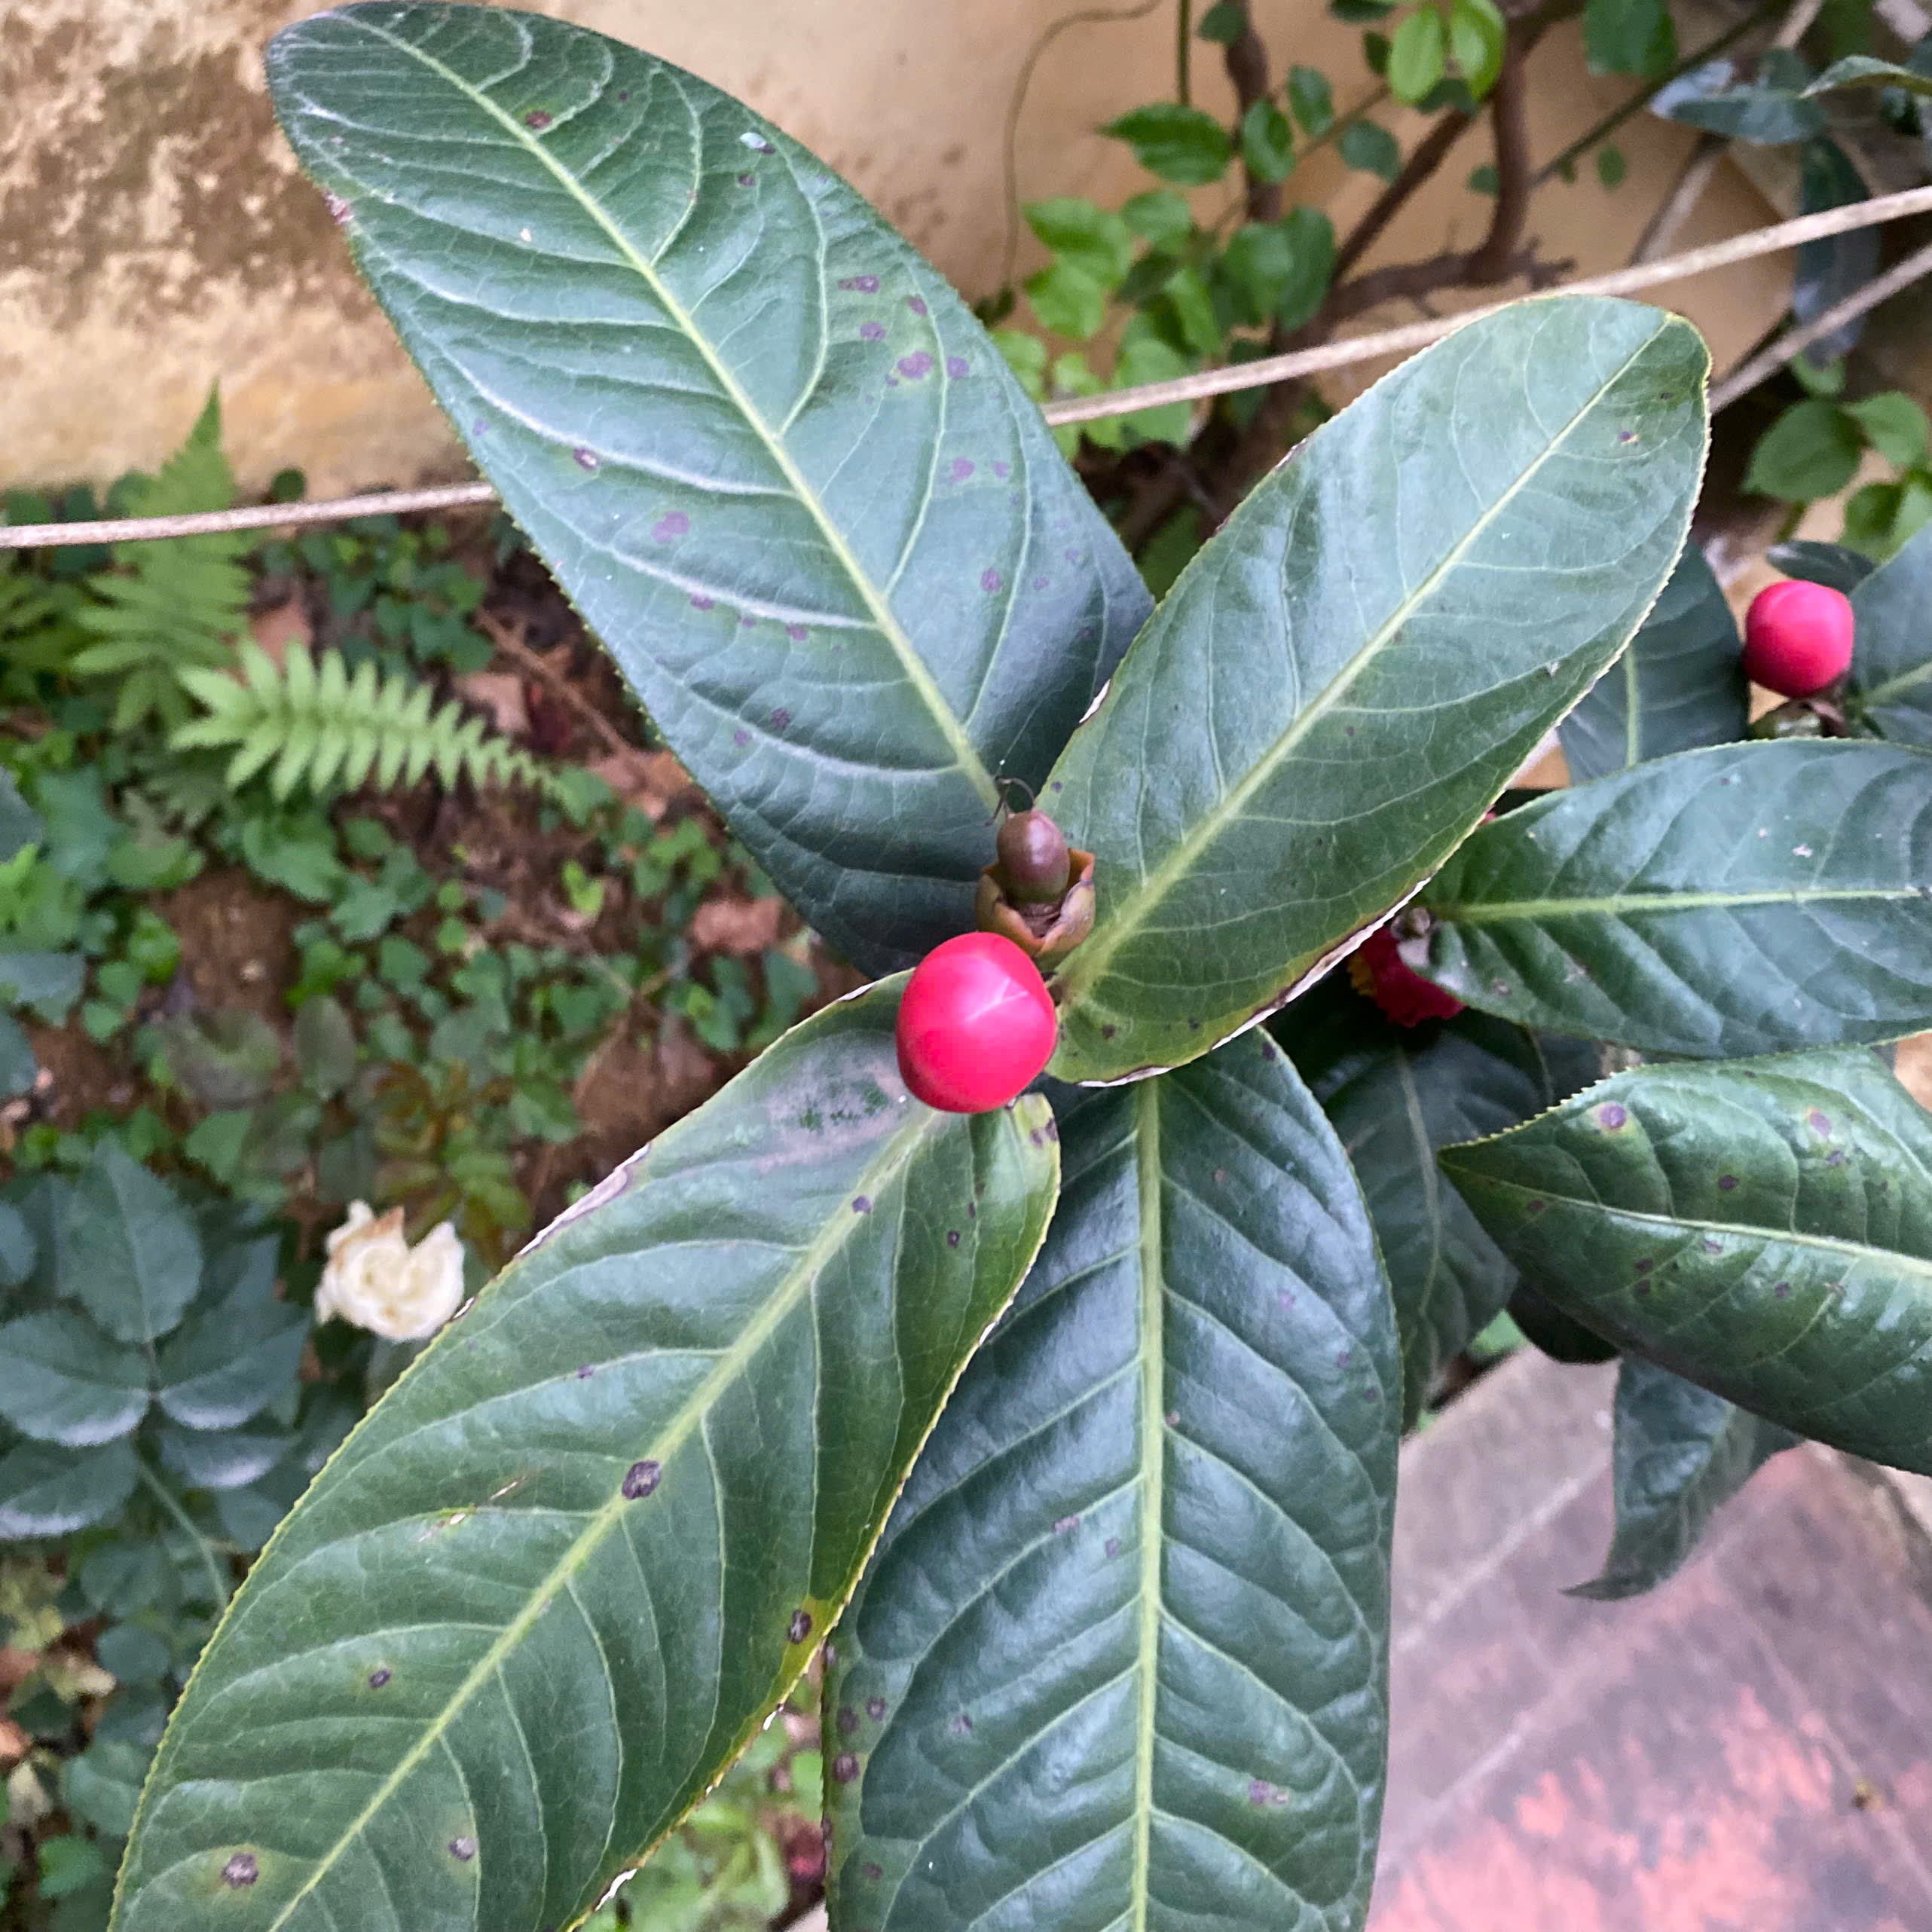hoa_hai_duong: (35, 301, 1764, 1932)
